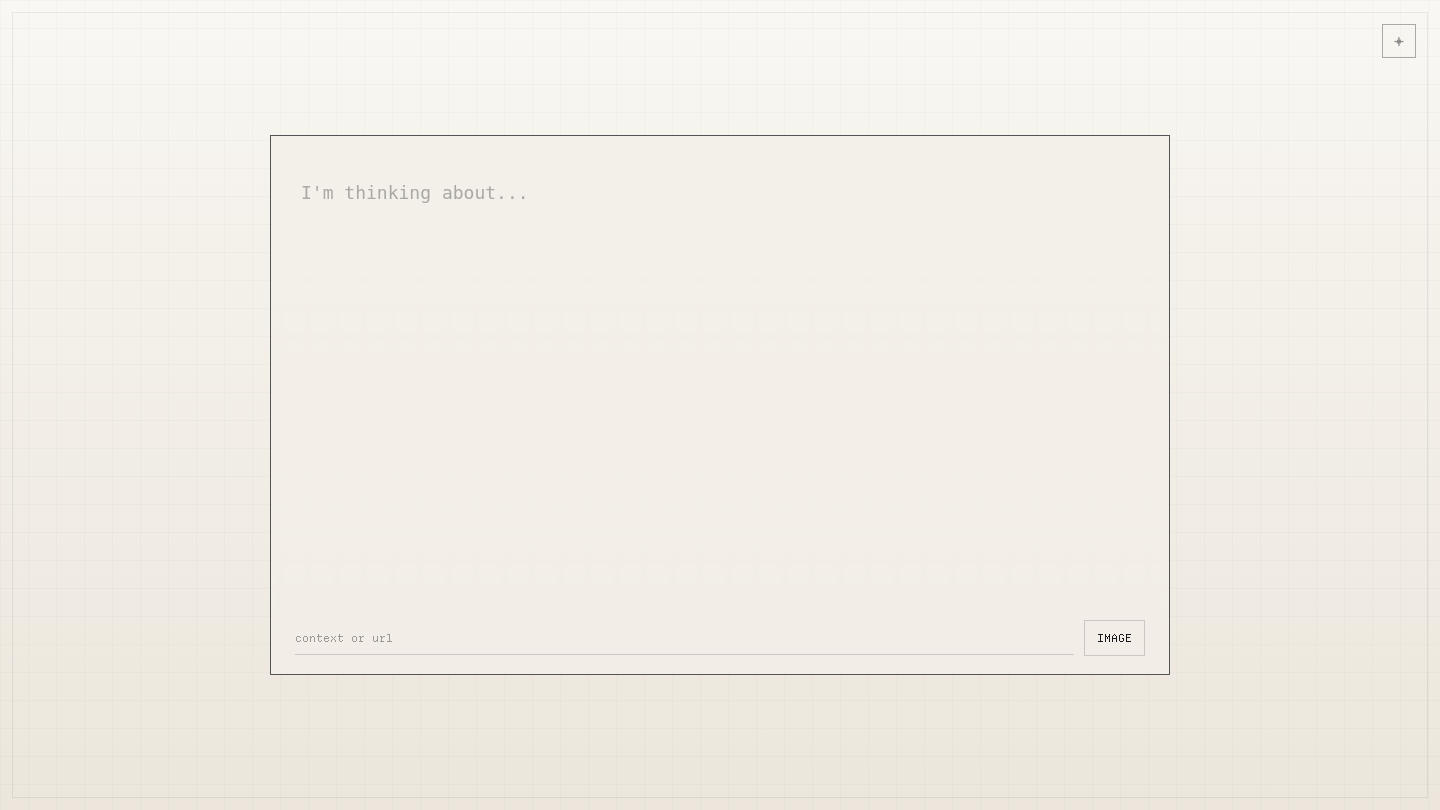
Test: empty-body save with image context keeps the image and shows guidance
Step 1. Click the button with aria-label "Add image" → (1114, 638), box [1084,620,1145,656]
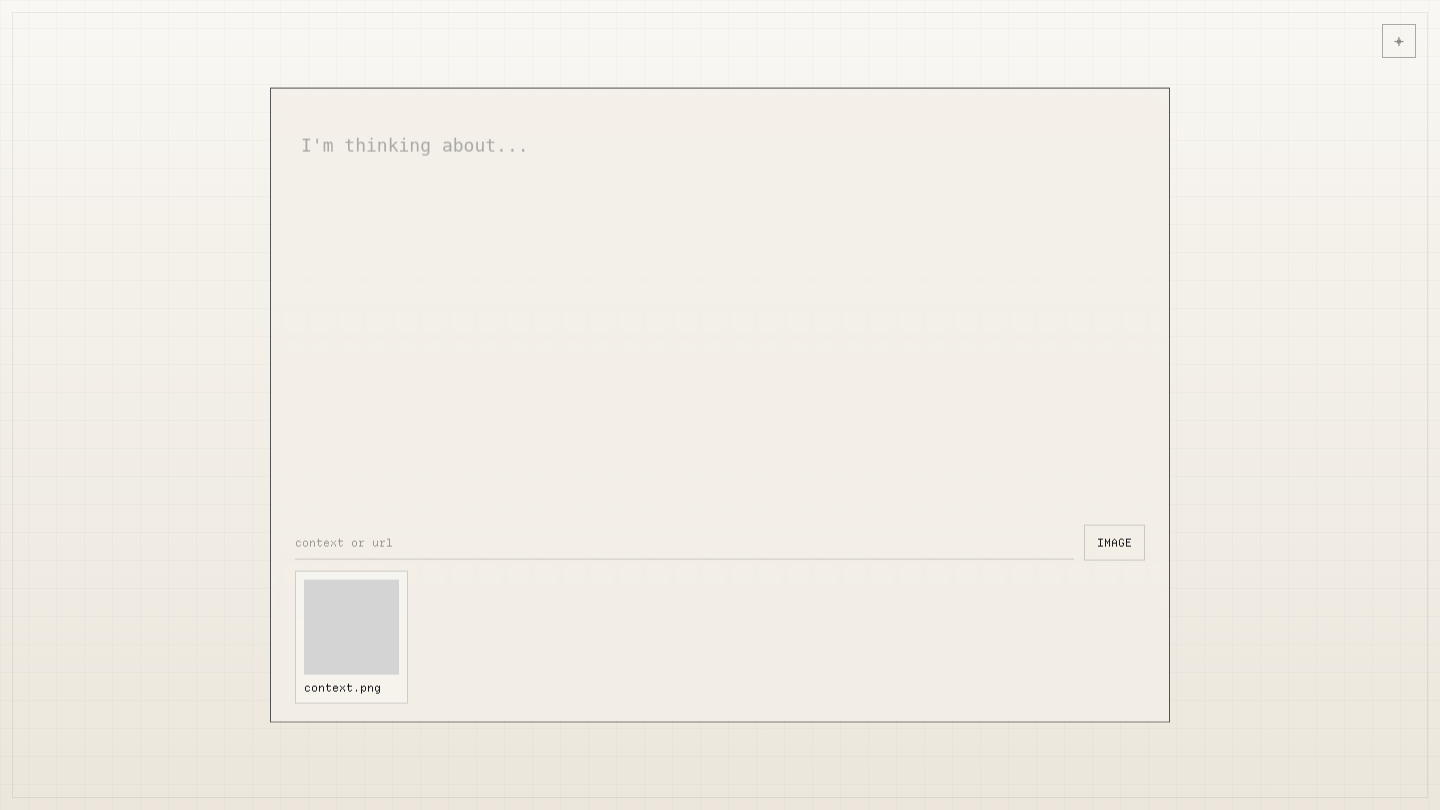
Result: the text "context.png" is shown at [304,680,381,694]
Step 2. Press Enter in the field named "Thought inbox editor", box [301,135,529,156]
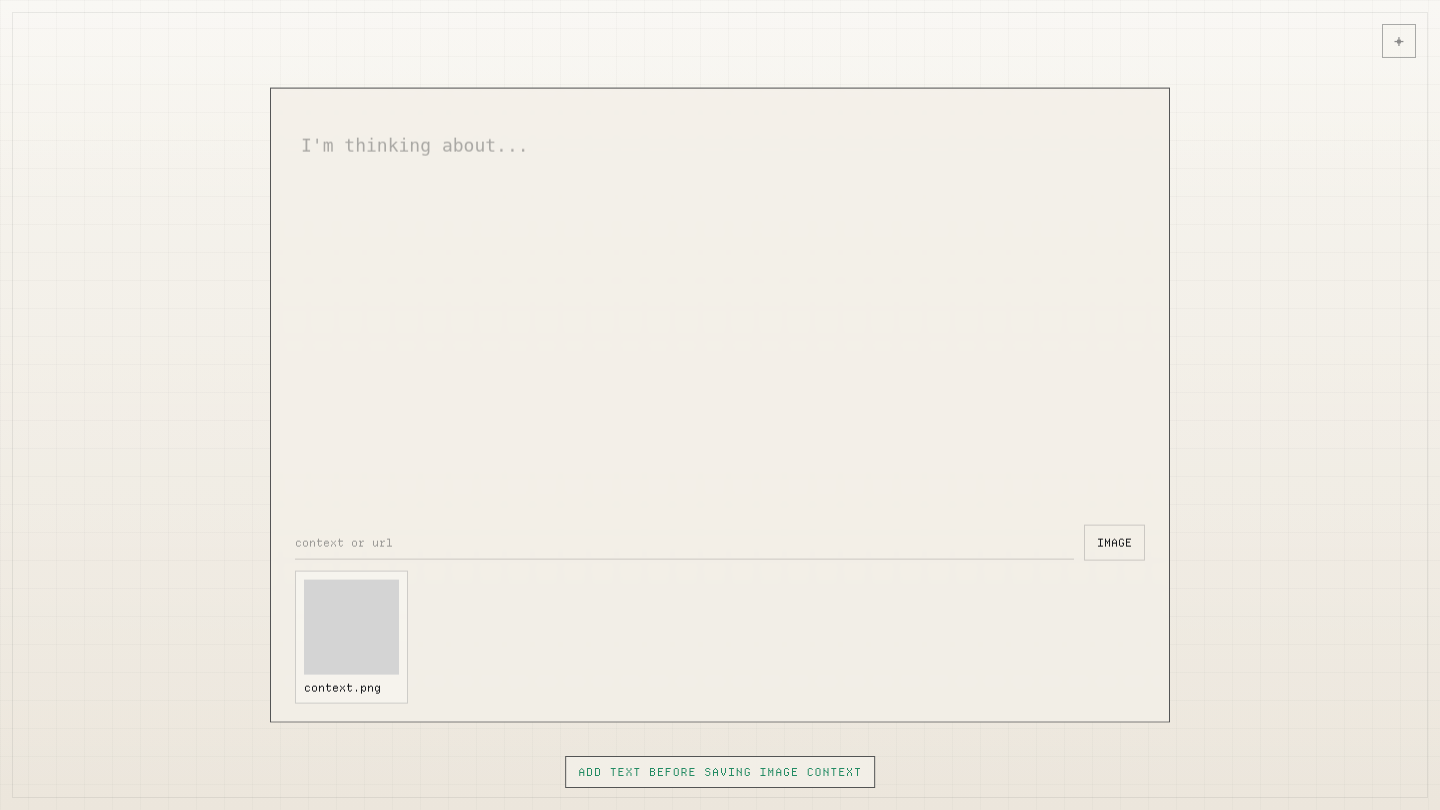
Result: the text "context.png" is shown at [304,680,381,694]
Result: the text "add text before saving image context" is shown at [565,756,875,788]
